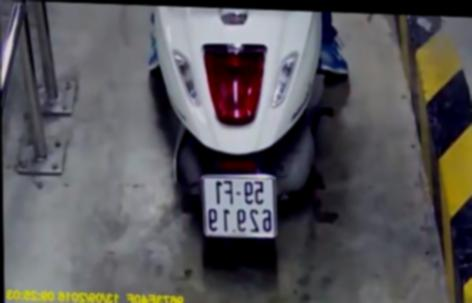License_Plate: (193, 166, 285, 244)
